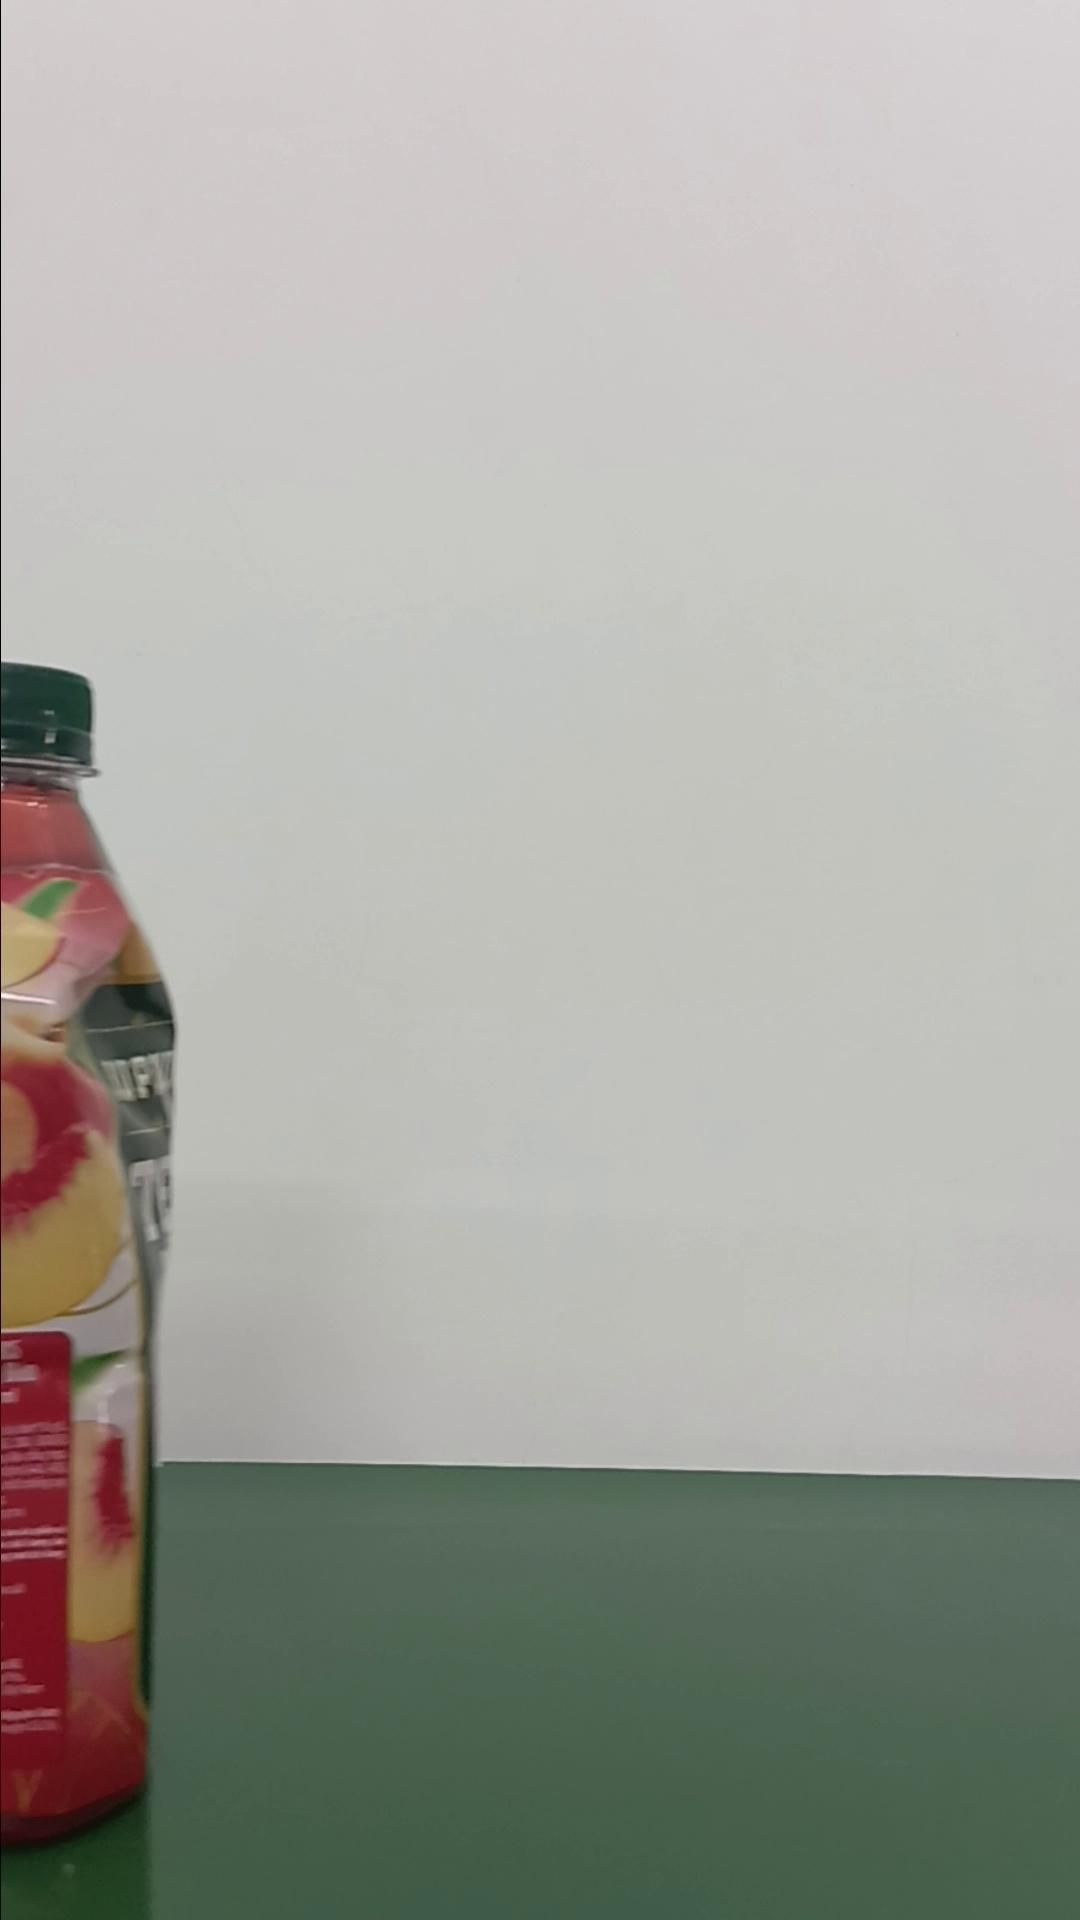loi meo sp: (1, 659, 177, 1844)
